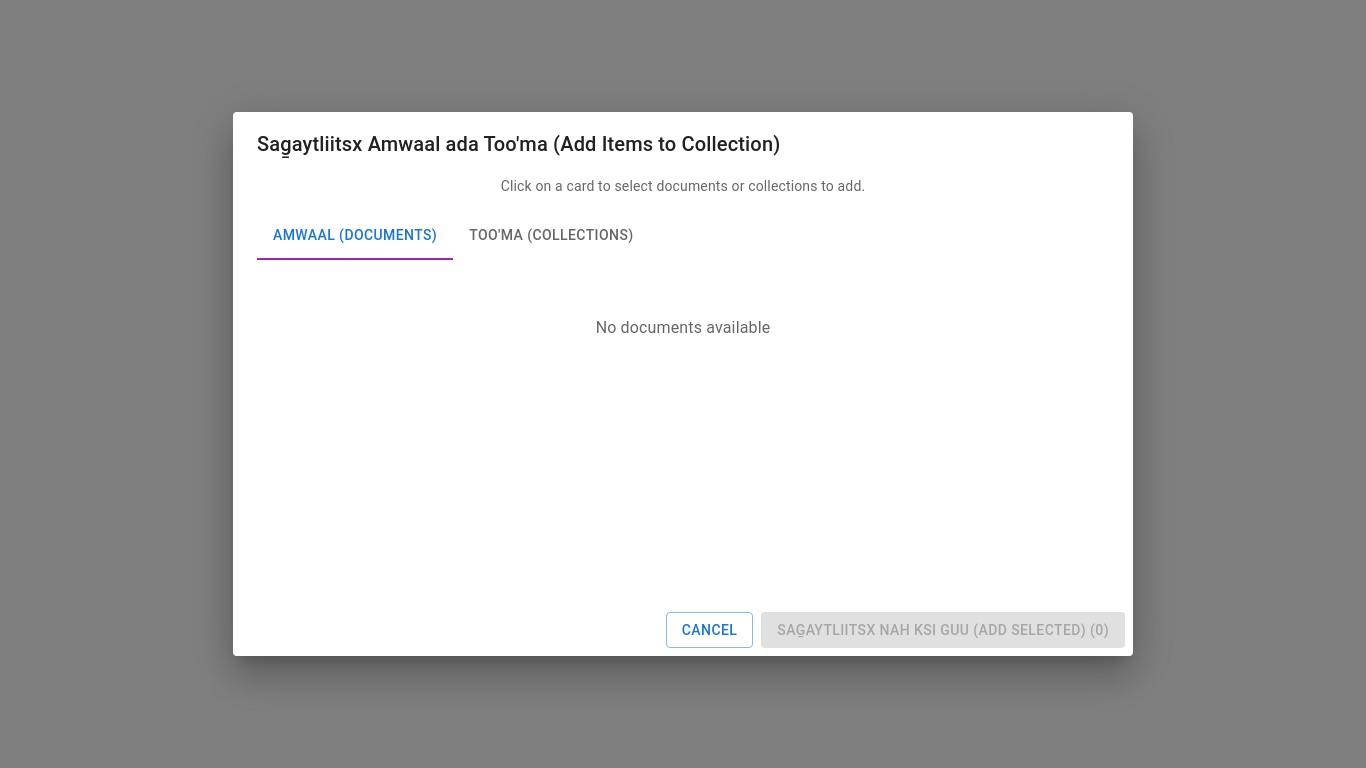
AddItemModal Circular Reference Prevention › allows adding collections that do not create circular references
The image size is (1366, 768).
Click the tab "Too'ma (Collections)". click: coordinates (551, 236)
box: [453,212,650,260]
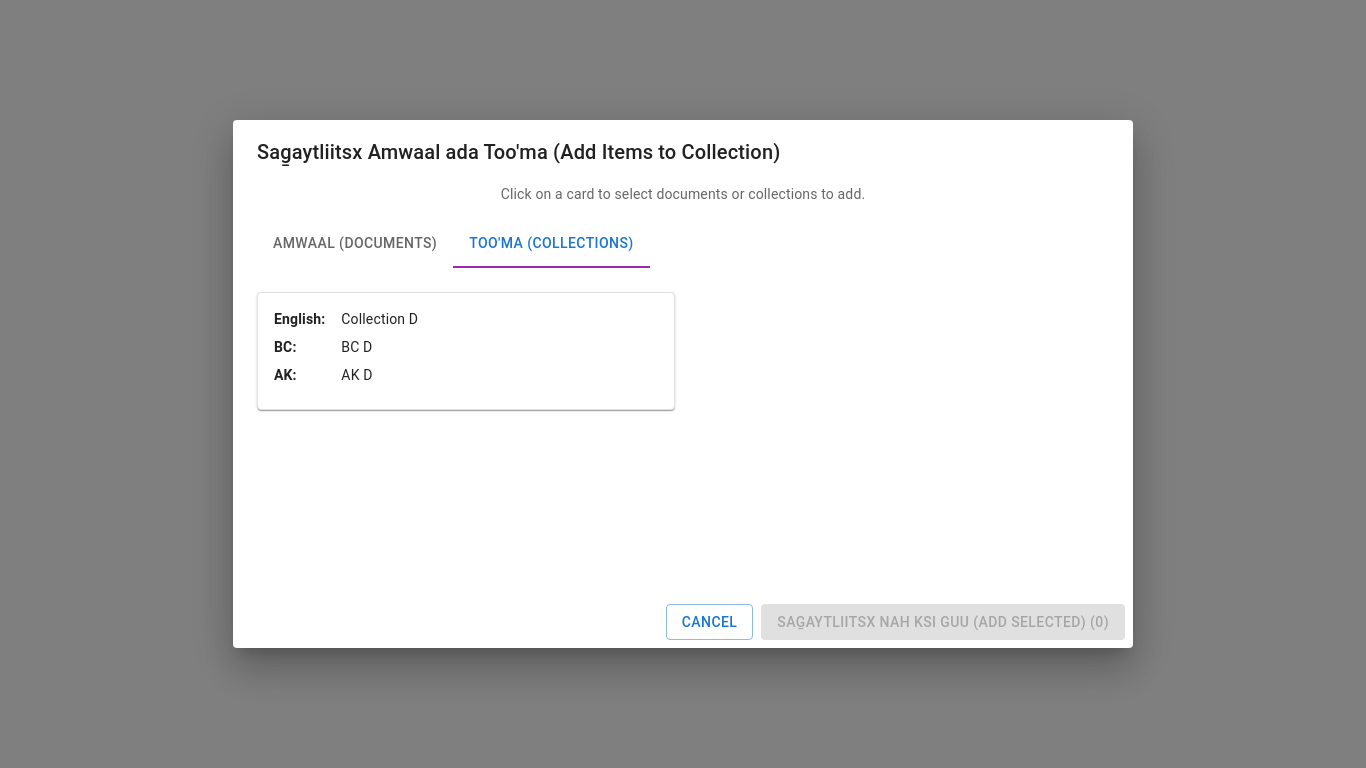
Result: the text "Collection D" is shown
Click the text "Collection D". click: coordinates (380, 319)
box: [341,311,418,327]
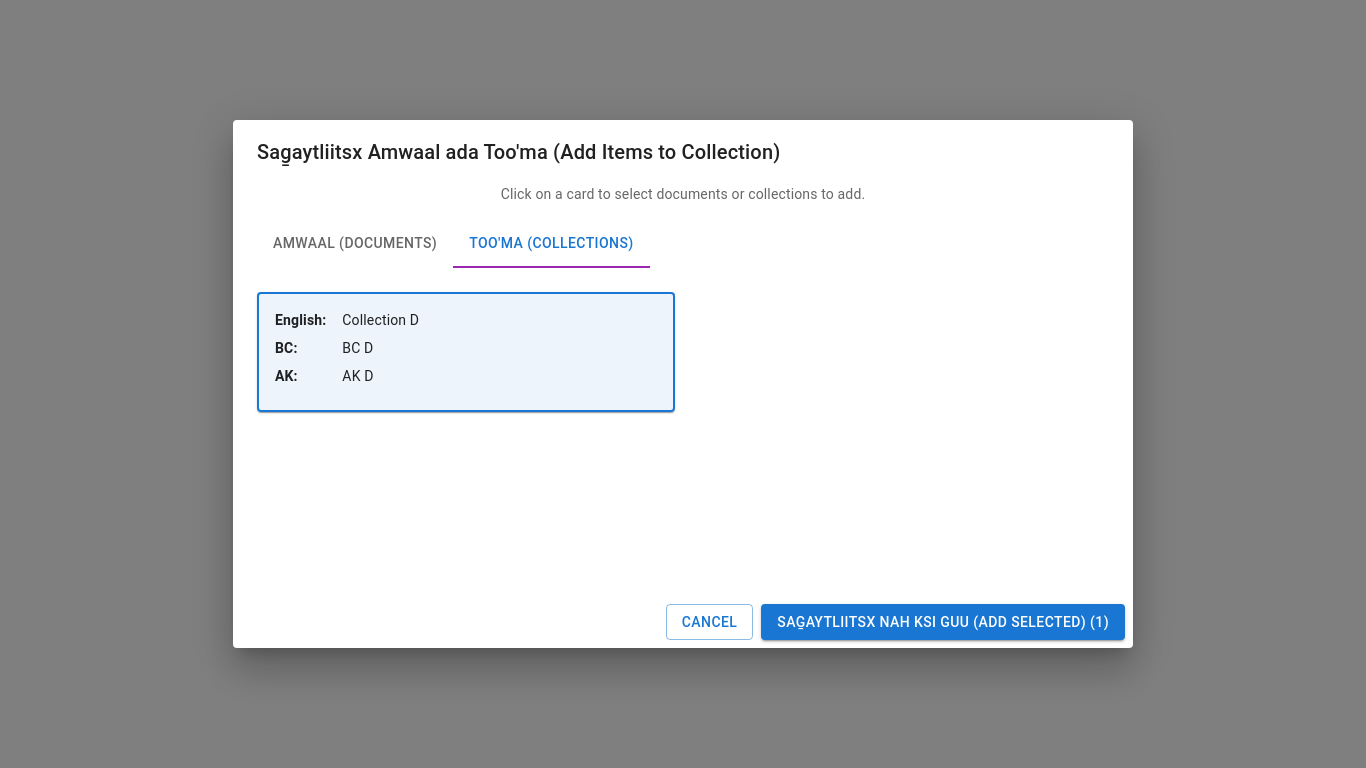
Result: the button "Sag̱aytliitsx nah ksi guu (Add Selected) (1)" is enabled at [761,604,1125,640]
